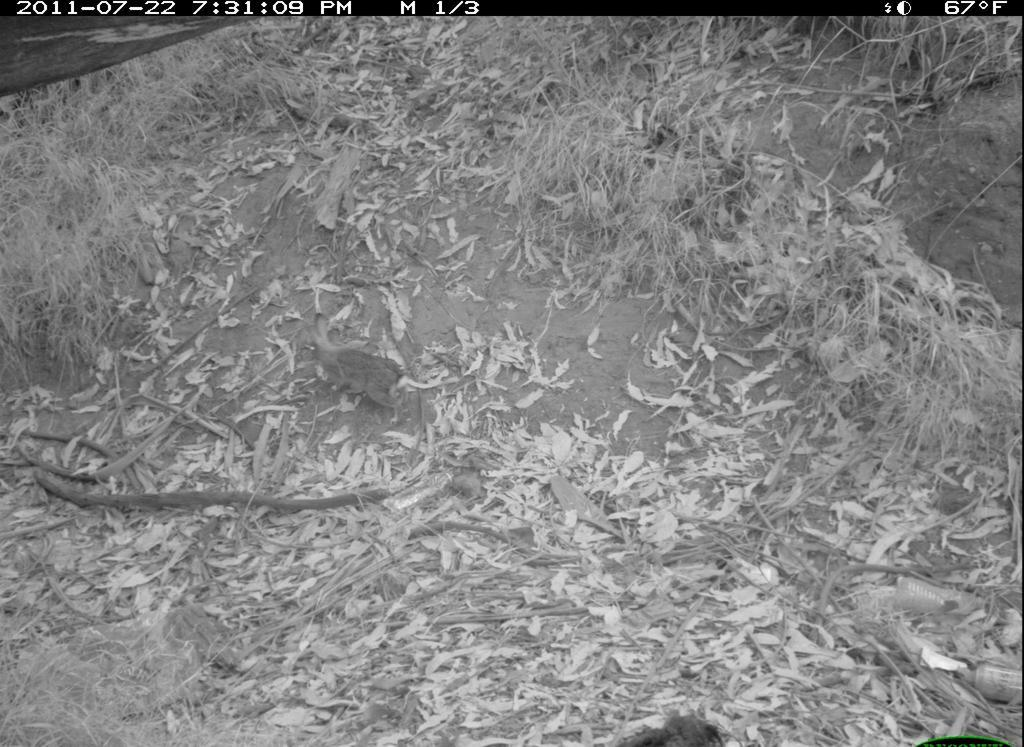rabbit: (286, 306, 425, 429)
